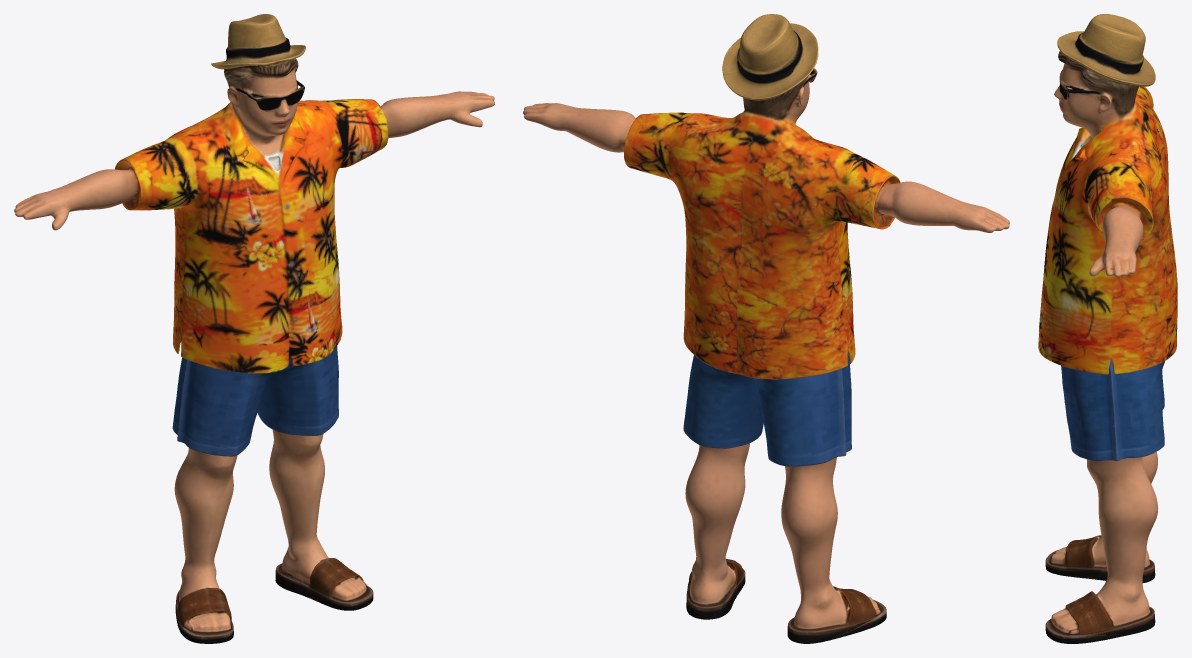
The model's file is gilmar-gordo.fbx.
3 renders of one model, left to right at view 1: azimuth 30°, elevation 25°; view 2: azimuth 150°, elevation 25°; view 3: azimuth 270°, elevation 25°, orthographic. The views are drawn at different scales.
Visible parts, largest first — view 1: Mesh_0; view 2: Mesh_0; view 3: Mesh_0.
Boxes of the visible parts, box(x1,y1,x2,y2) form: Mesh_0: box(14, 14, 494, 643); Mesh_0: box(523, 14, 1009, 643); Mesh_0: box(1038, 14, 1177, 643).
Bounding box in the file's own units: 162 × 190 × 41.31.
Materials: 1 (1 with a texture image).
